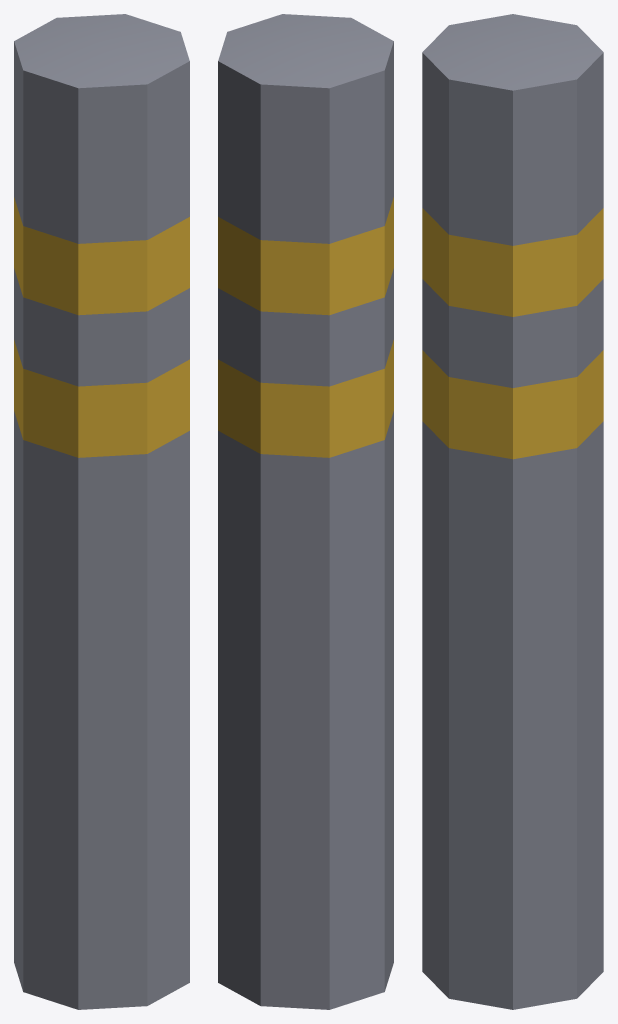
Rendered from bollardSteel.fbx.
3 views of the same model, side by side, from view 1: azimuth 30°, elevation 25°; view 2: azimuth 150°, elevation 25°; view 3: azimuth 270°, elevation 25° (orthographic).
Parts seen in each view (by area): view 1: bollardSteel; view 2: bollardSteel; view 3: bollardSteel.
Boxes of the visible parts, box(x1,y1,x2,y2) form: bollardSteel: box(14, 14, 189, 1009); bollardSteel: box(218, 14, 393, 1009); bollardSteel: box(422, 14, 603, 1009).
Size of the model in its own units: 16 by 90 by 16.
1 material, 1 textured.
